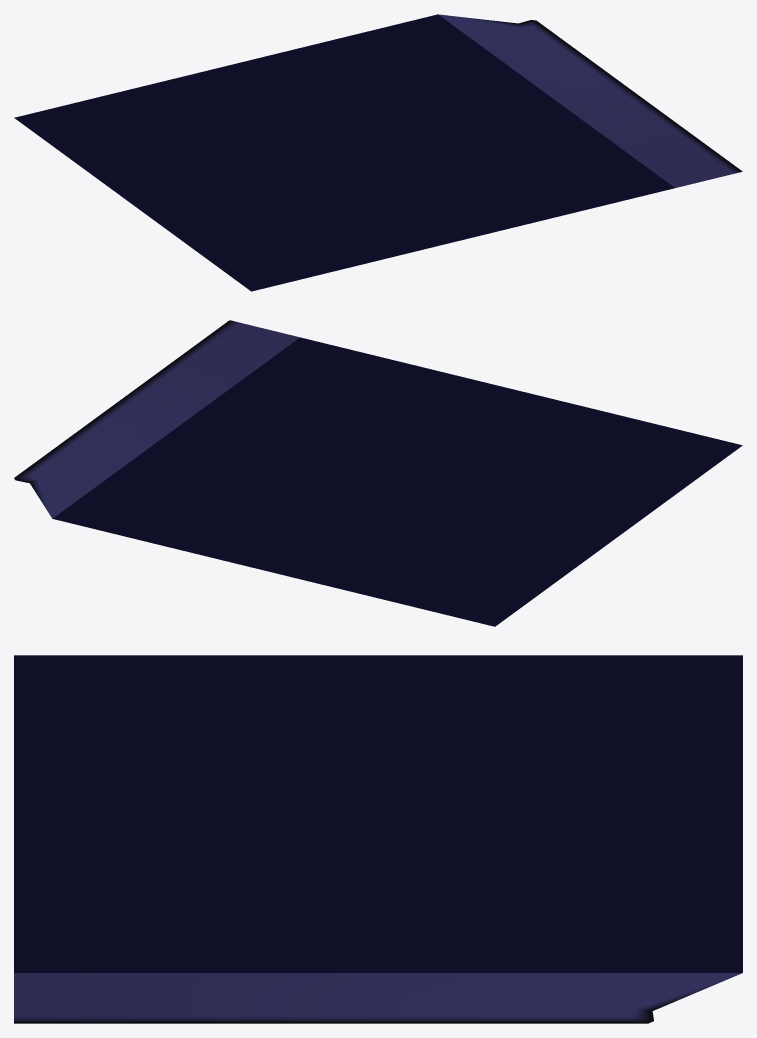
3 renders of one model, top to bottom at view 1: azimuth 30°, elevation 25°; view 2: azimuth 150°, elevation 25°; view 3: azimuth 270°, elevation 25°, orthographic. The views are drawn at different scales.
Parts seen in each view (by area): view 1: Joint_0_Object_0; view 2: Joint_0_Object_0; view 3: Joint_0_Object_0.
Boxes of the visible parts, <box> form: Joint_0_Object_0: <box>14,14,742,291</box>; Joint_0_Object_0: <box>14,320,742,626</box>; Joint_0_Object_0: <box>14,655,742,1023</box>.
Size of the model in its own units: 1435 by 0 by 1200.
1 material, 1 textured.
